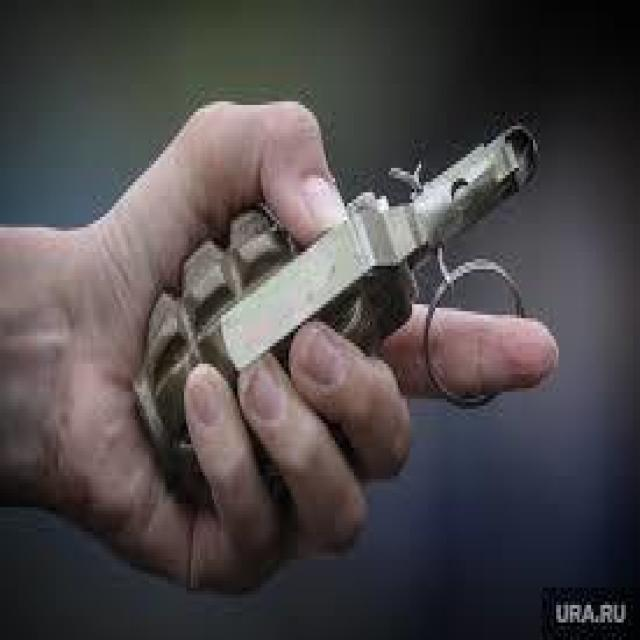grenade: (129, 110, 543, 516)
